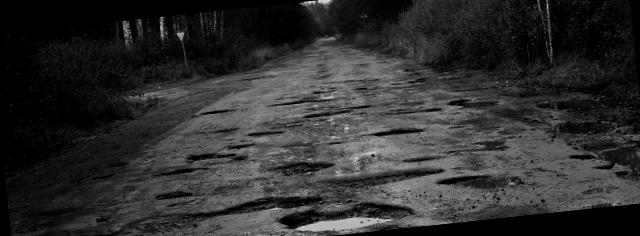Pothole: (529, 51, 640, 213), (276, 189, 418, 236), (320, 152, 457, 198), (189, 184, 317, 230), (150, 146, 234, 181), (268, 154, 336, 194), (254, 88, 320, 117), (358, 120, 422, 142), (204, 100, 248, 120)
